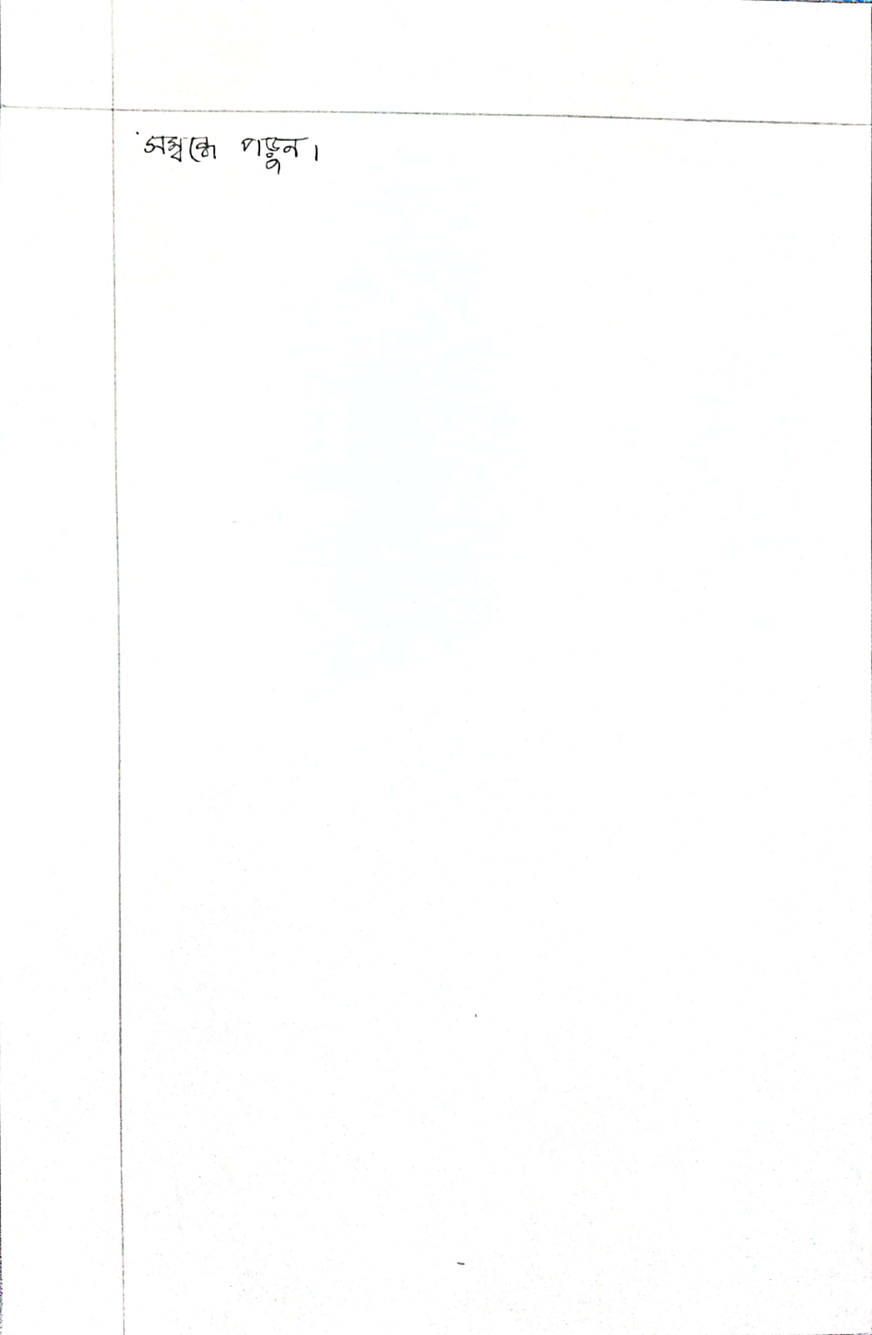line: (115, 110, 358, 193)
